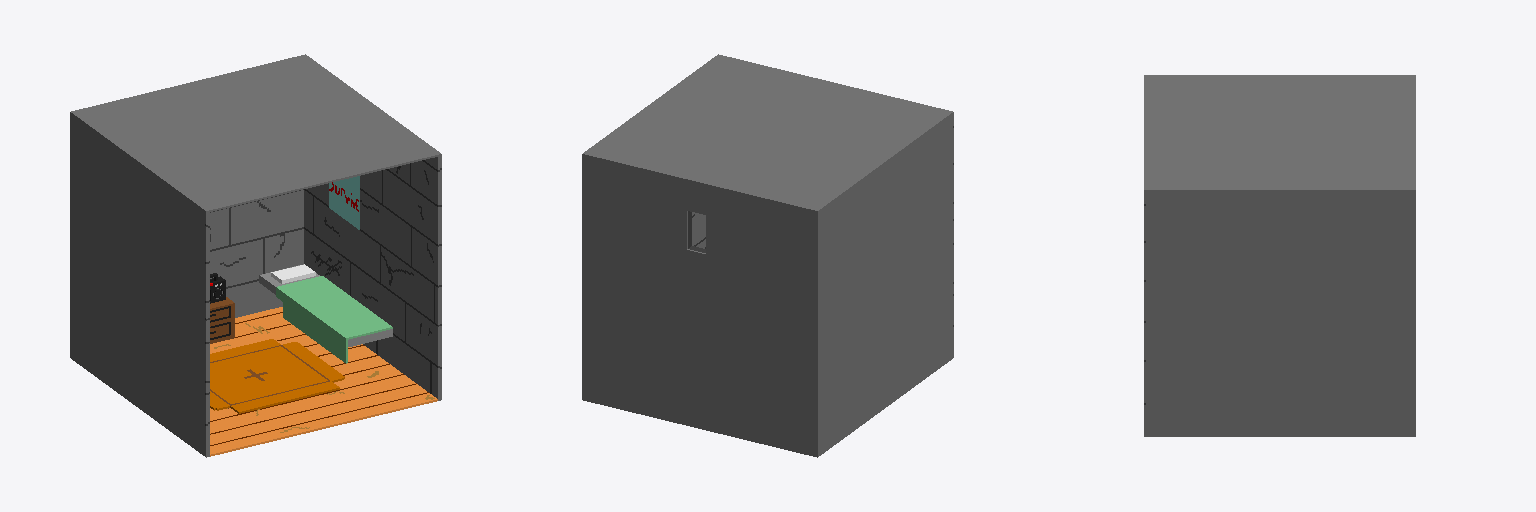
The picture shows the model from 3 angles: view 1: azimuth 30°, elevation 25°; view 2: azimuth 150°, elevation 25°; view 3: azimuth 270°, elevation 25°; orthographic projection.
Size of the model in its own units: 126 by 126 by 126.
1 materials, 1 textured.